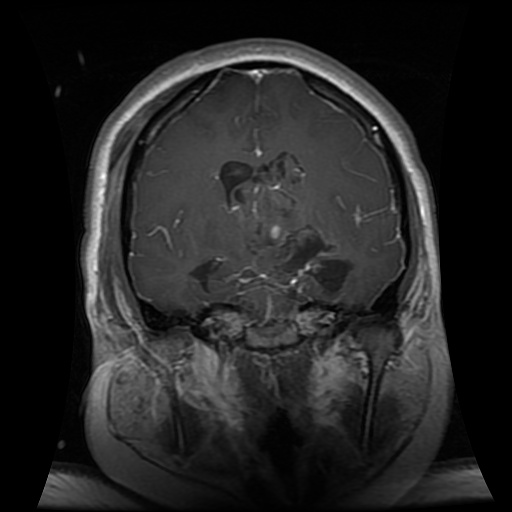glioma: (186, 152, 355, 306)
